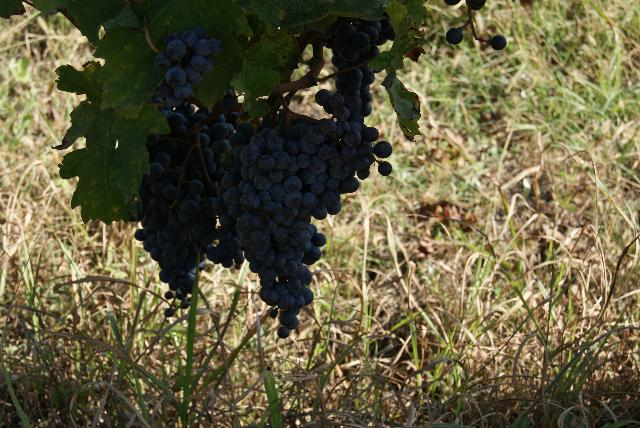grapes: (222, 95, 391, 338), (135, 134, 245, 316), (200, 112, 254, 190), (164, 102, 206, 134)
